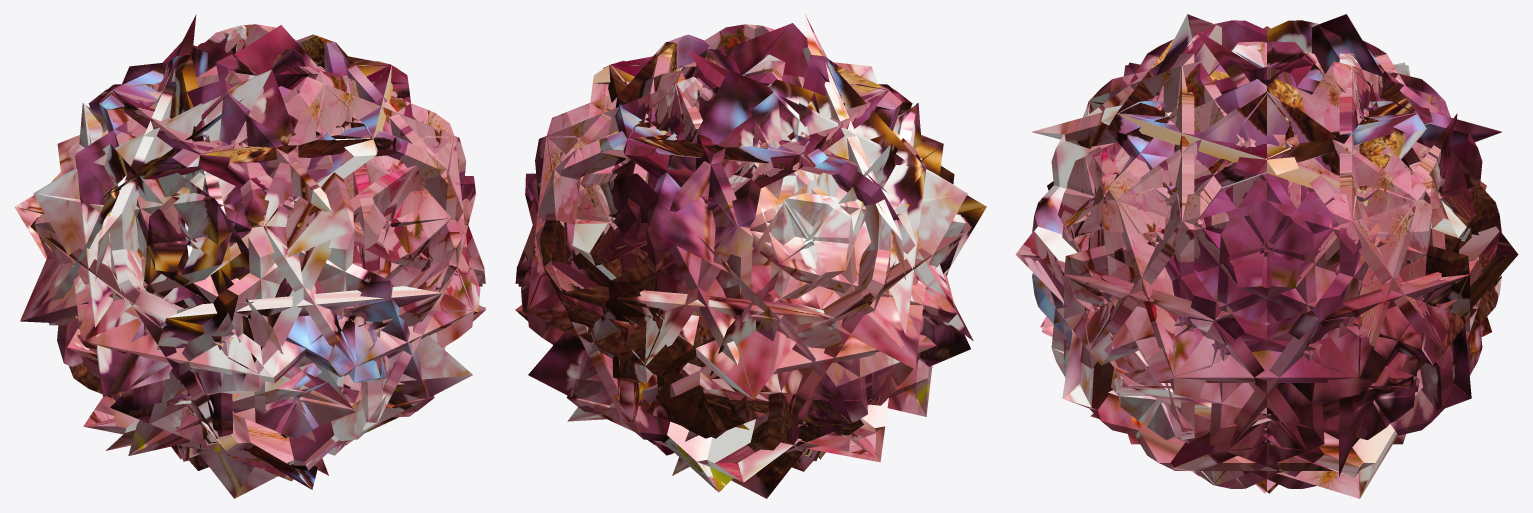
File: Flor2.gltf
3 views of the same model, side by side, from view 1: azimuth 30°, elevation 25°; view 2: azimuth 150°, elevation 25°; view 3: azimuth 270°, elevation 25° (orthographic). The views are drawn at different scales.
Visible parts, largest first — view 1: Icosphere; view 2: Icosphere; view 3: Icosphere.
Part boxes in pixels (x1,y1,x2,y2): Icosphere: (14,14,485,498); Icosphere: (515,14,986,498); Icosphere: (1015,14,1518,498).
Size of the model in its own units: 2.85 by 2.93 by 2.94.
Materials: 1 (1 with a texture image).
